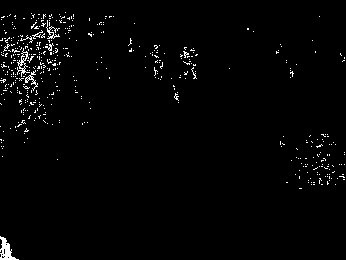person: (181, 43, 199, 82)
